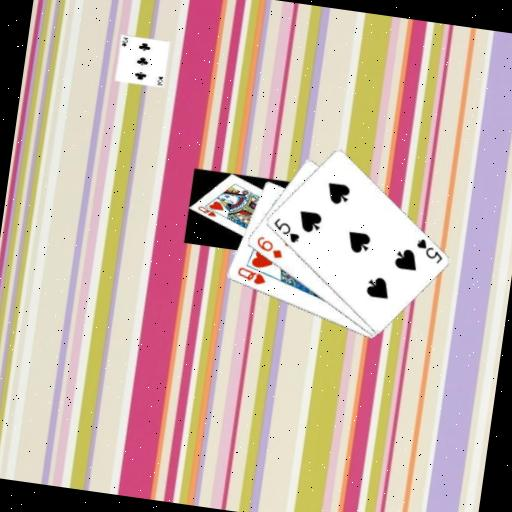5S: (268, 215, 303, 246), (411, 235, 446, 266)
6D: (252, 232, 287, 261)
QH: (233, 264, 268, 288)
